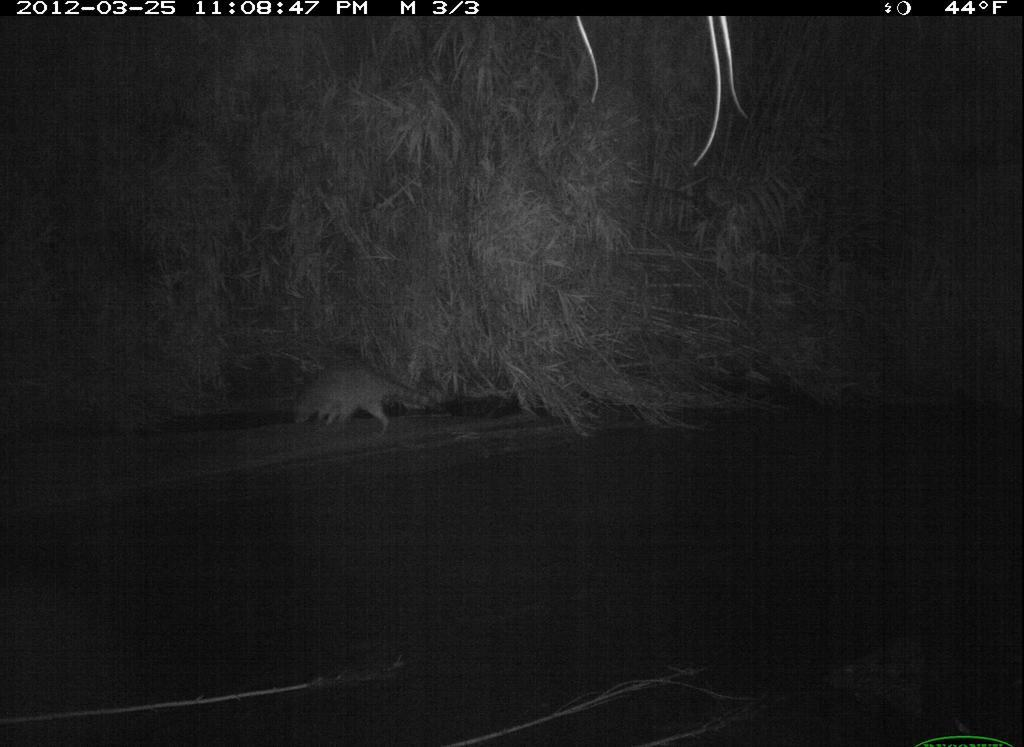raccoon: (280, 353, 457, 447)
